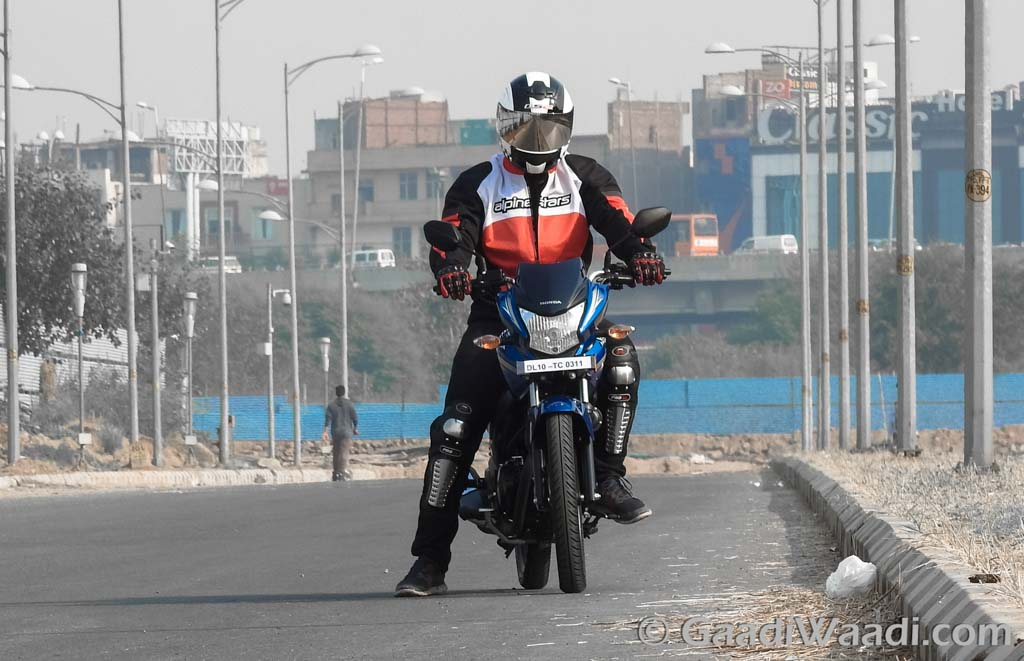helmet: (496, 71, 573, 171)
